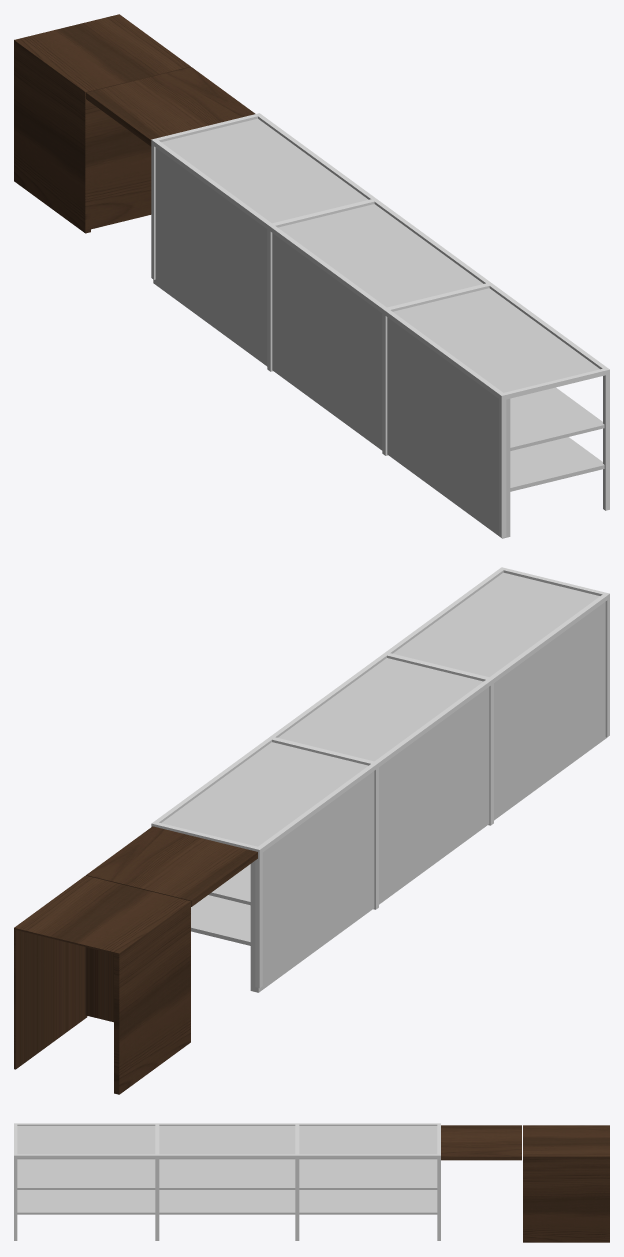
Rendered from Vitrina.fbx.
The picture shows the model from 3 angles, top to bottom: view 1: azimuth 30°, elevation 25°; view 2: azimuth 150°, elevation 25°; view 3: azimuth 270°, elevation 25°; orthographic projection. The views are drawn at different scales.
Visible parts, largest first — view 1: Cube.181; view 2: Cube.181; view 3: Cube.181.
Boxes of the visible parts, box(x1,y1,x2,y2) form: Cube.181: box(14, 14, 609, 538); Cube.181: box(14, 567, 609, 1094); Cube.181: box(14, 1123, 609, 1242).
Size of the model in its own units: 102 by 130 by 794.
3 materials, 1 textured.
